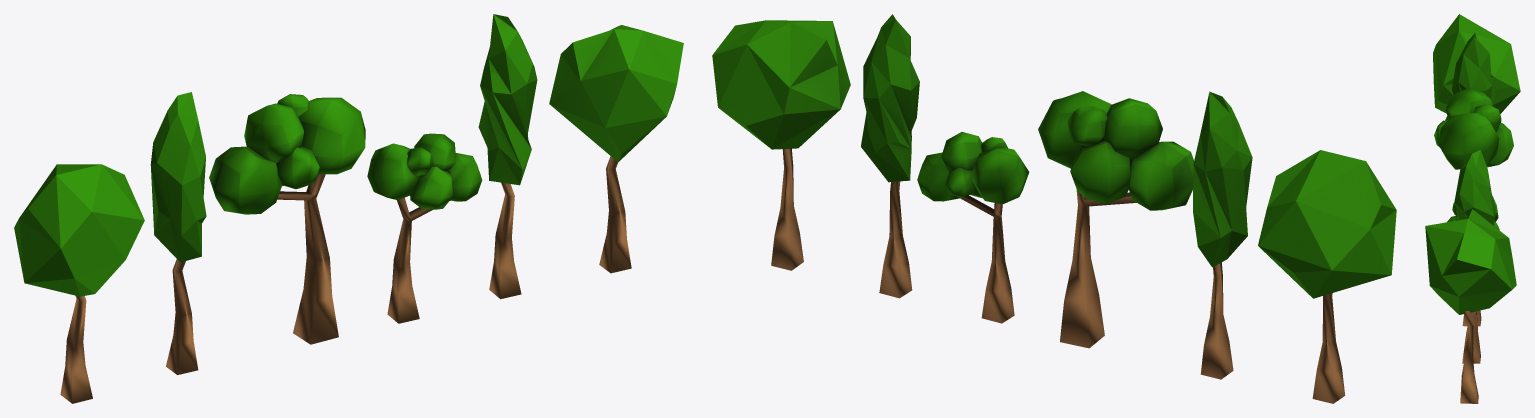
Rendered from LowPolyTrees_1.fbx.
3 views of the same model, side by side, from view 1: azimuth 30°, elevation 25°; view 2: azimuth 150°, elevation 25°; view 3: azimuth 270°, elevation 25° (orthographic). The views are drawn at different scales.
Visible parts, largest first — view 1: LPT1_Tree_3, LPT1_Tree_1, LPT1_Tree_6, LPT1_Tree_2, LPT1_Tree_5, LPT1_Tree_4; view 2: LPT1_Tree_1, LPT1_Tree_3, LPT1_Tree_6, LPT1_Tree_2, LPT1_Tree_5, LPT1_Tree_4; view 3: LPT1_Tree_6, LPT1_Tree_3, LPT1_Tree_1, LPT1_Tree_5, LPT1_Tree_2, LPT1_Tree_4.
Part boxes in pixels (x1,y1,x2,y2): LPT1_Tree_3: (209,94,365,344); LPT1_Tree_1: (14,164,144,403); LPT1_Tree_6: (549,25,683,273); LPT1_Tree_2: (150,92,206,374); LPT1_Tree_5: (478,14,537,299); LPT1_Tree_4: (367,133,482,323); LPT1_Tree_1: (1258,150,1396,403); LPT1_Tree_3: (1038,91,1193,348); LPT1_Tree_6: (712,20,850,270); LPT1_Tree_2: (1193,91,1252,379); LPT1_Tree_5: (861,14,919,298); LPT1_Tree_4: (917,132,1029,323); LPT1_Tree_6: (1425,209,1516,403); LPT1_Tree_3: (1434,88,1513,169); LPT1_Tree_1: (1433,14,1520,113); LPT1_Tree_5: (1454,150,1495,363); LPT1_Tree_2: (1451,33,1491,99); LPT1_Tree_4: (1447,196,1499,326).
Size of the model in its own units: 475 by 191 by 79.44.
